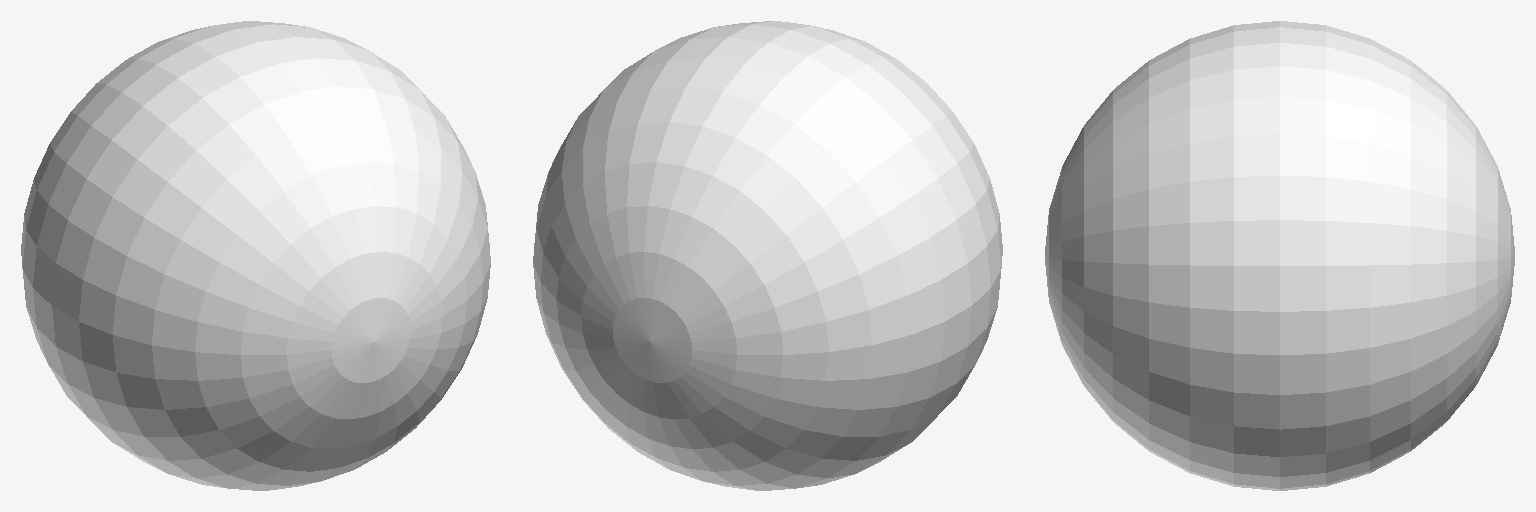
The model's file is goo7.obj.
3 views of the same model, side by side, from view 1: azimuth 30°, elevation 25°; view 2: azimuth 150°, elevation 25°; view 3: azimuth 270°, elevation 25° (orthographic).
Visible parts, largest first — view 1: Sphere001; view 2: Sphere001; view 3: Sphere001.
Part boxes in pixels (x1,y1,x2,y2): Sphere001: (21,21,490,490); Sphere001: (533,21,1002,490); Sphere001: (1045,21,1514,490).
Size of the model in its own units: 200 by 200 by 200.